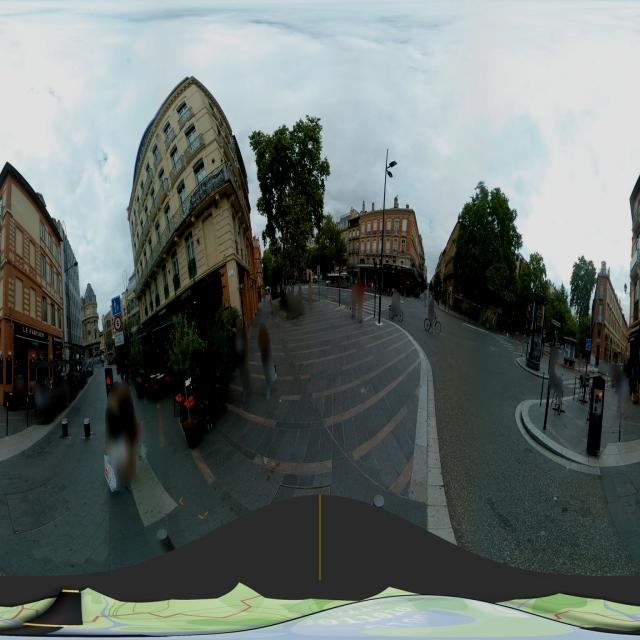car: (86, 358, 95, 374)
